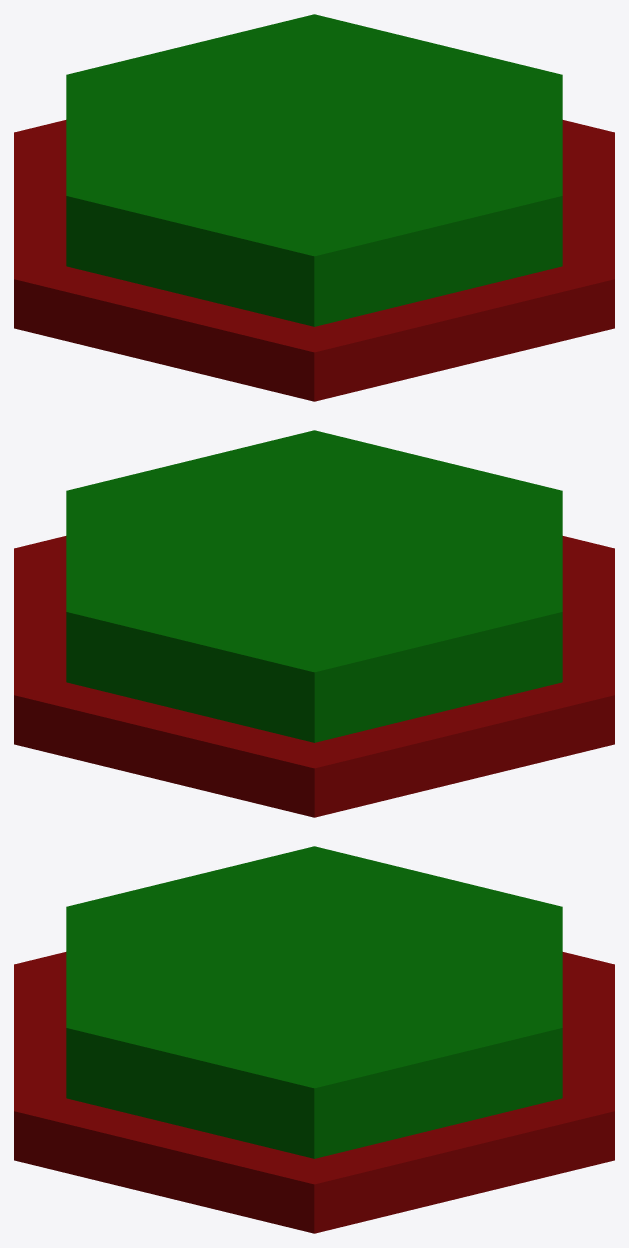
The model's file is SmallGunMount.fbx.
3 views of the same model, one above another, from view 1: azimuth 30°, elevation 25°; view 2: azimuth 150°, elevation 25°; view 3: azimuth 270°, elevation 25° (orthographic).
Parts seen in each view (by area): view 1: SmallGunMount; view 2: SmallGunMount; view 3: SmallGunMount.
Boxes of the visible parts, box(x1,y1,x2,y2) form: SmallGunMount: box(14, 14, 614, 401); SmallGunMount: box(14, 430, 614, 817); SmallGunMount: box(14, 846, 614, 1233).
Size of the model in its own units: 0.535 by 0.1019 by 0.4633.
